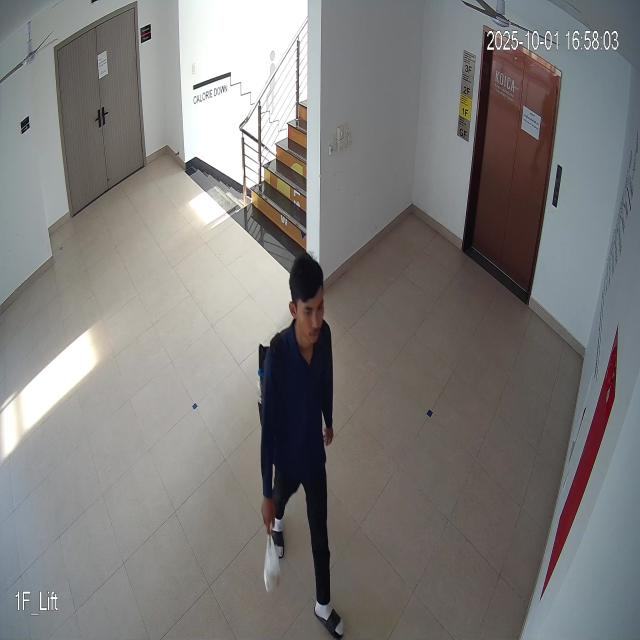face: (286, 247, 328, 351)
